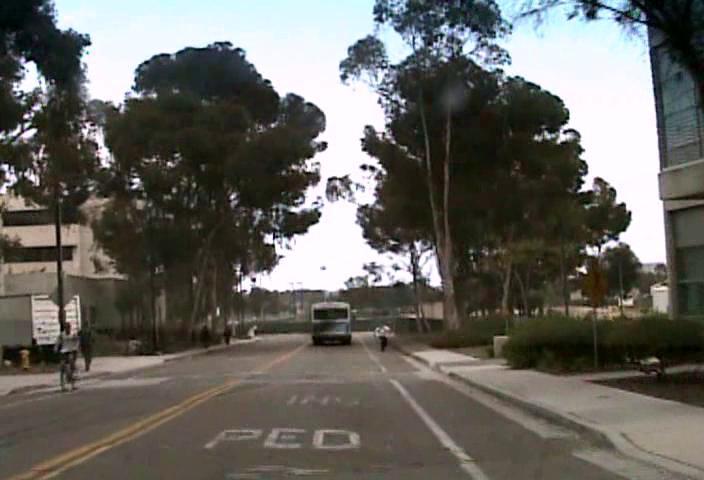pedestrianCrossing: (574, 254, 610, 304)
